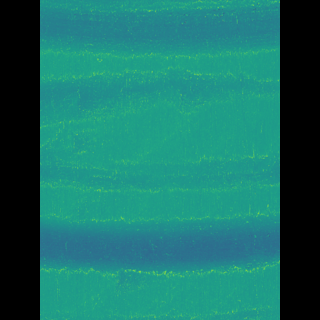Loch: (68, 205, 250, 277), (69, 65, 250, 126), (69, 0, 250, 59), (70, 152, 251, 189)
